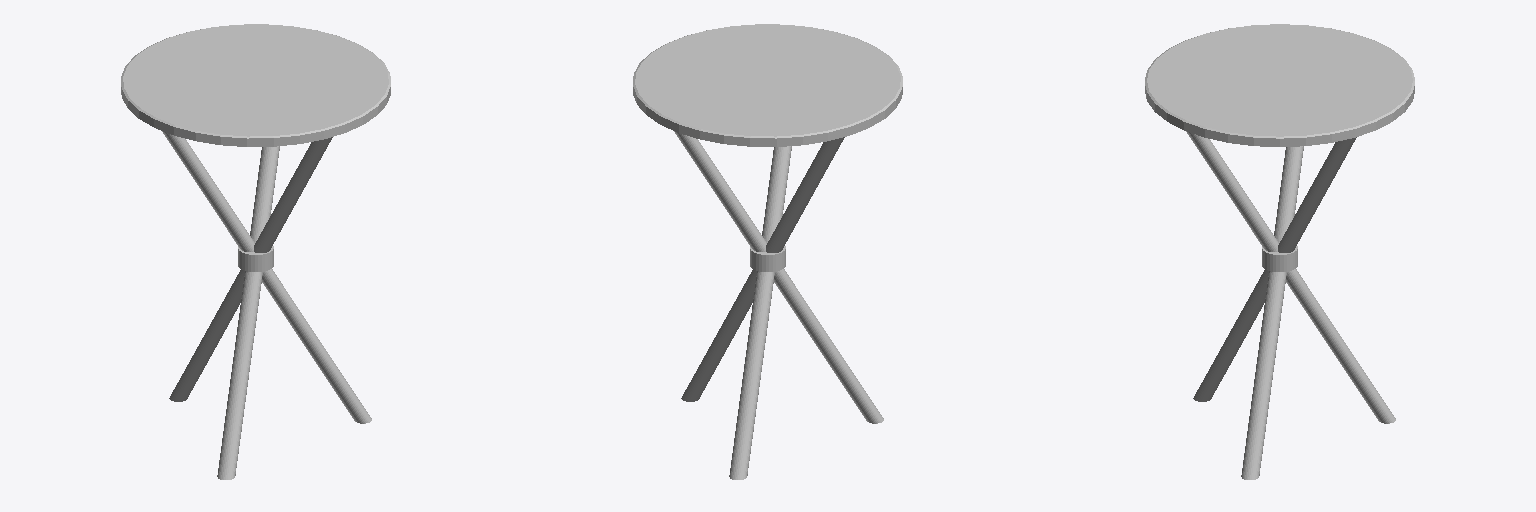
Rendered from dai.obj.
3 views of the same model, side by side, from view 1: azimuth 30°, elevation 25°; view 2: azimuth 150°, elevation 25°; view 3: azimuth 270°, elevation 25° (orthographic).
Parts seen in each view (by area): view 1: Cylinder; view 2: Cylinder; view 3: Cylinder.
Part boxes in pixels (x1,y1,x2,y2): Cylinder: (121,24,390,479); Cylinder: (633,24,902,479); Cylinder: (1145,24,1414,479).
Size of the model in its own units: 4.5 by 6.44 by 4.5.